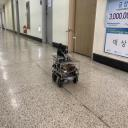cart: (51, 54, 80, 88)
